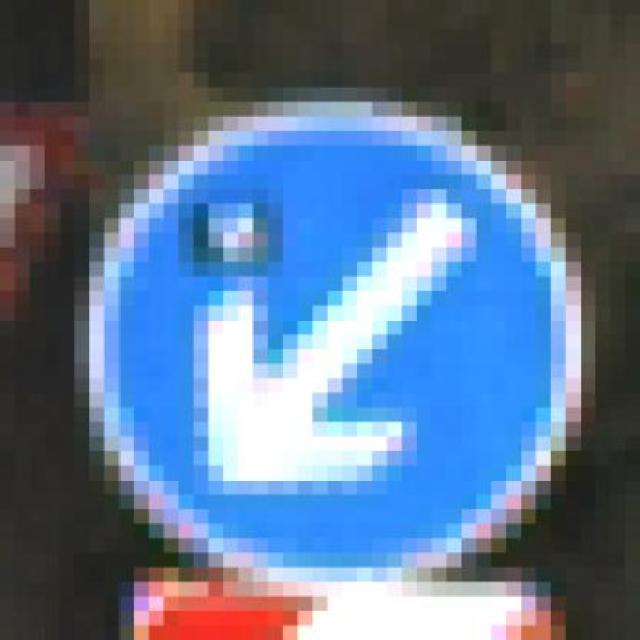Keep-Left: (59, 58, 610, 596)
